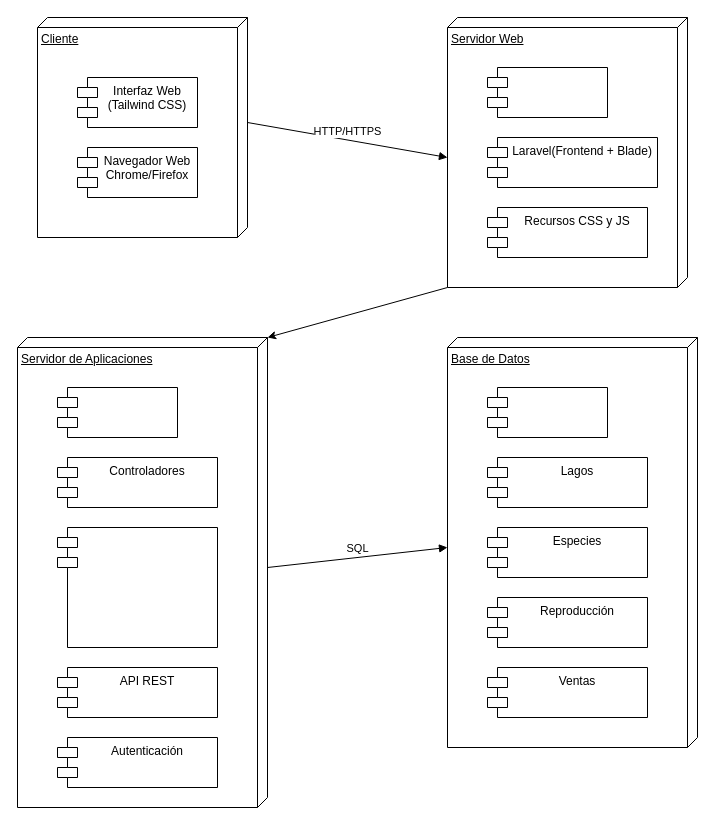
This 715x825 diagram has some shape labels left out. Each missing label, with the centre of its shape:
"Apache" belongs at point 547,92.
"Laravel Backend" belongs at point 117,412.
"Servicios -Lagos -Especies -Reproducción -Ventas -Reportes -Recomendaciones" belongs at point 137,587.
"Usuarios" belongs at point 547,412.
